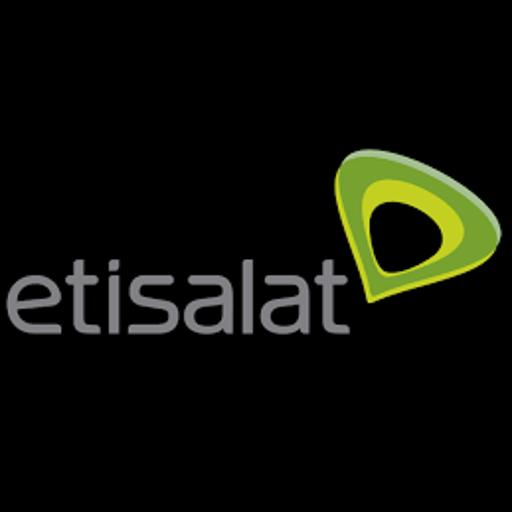Etisalat: (0, 141, 512, 370)
